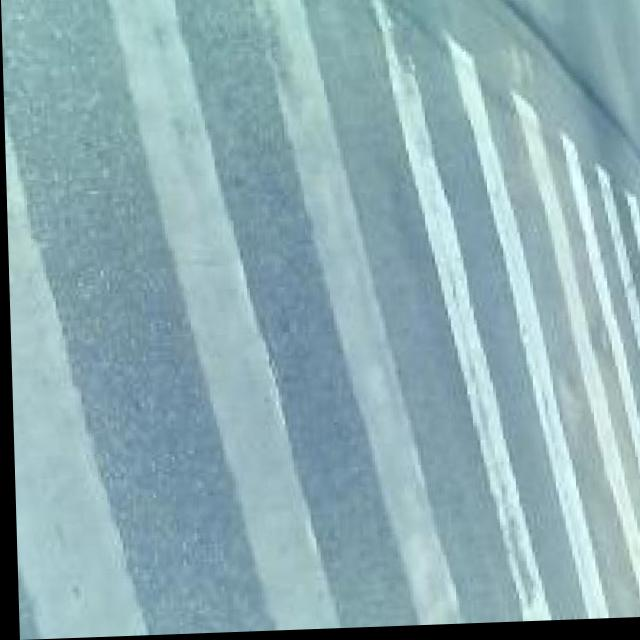zebra: (37, 162, 633, 639)
